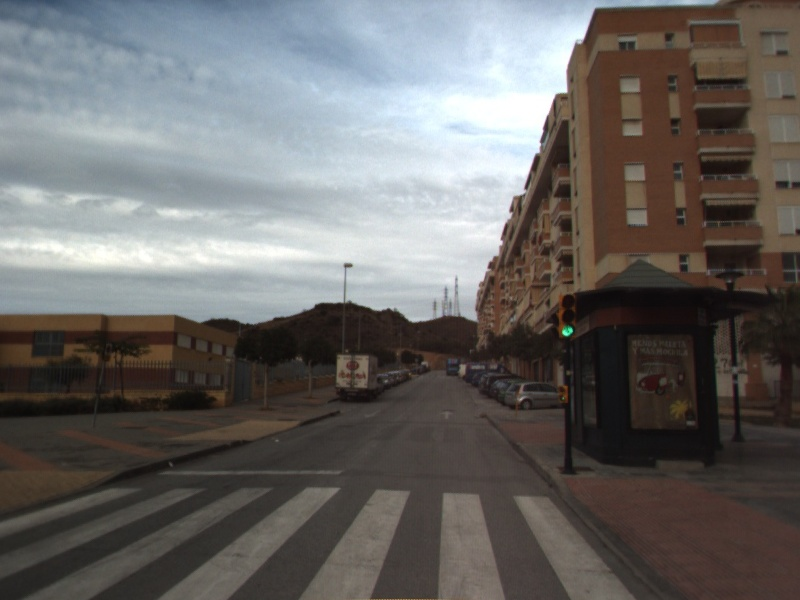STRAIGHT: (438, 408, 456, 421)
